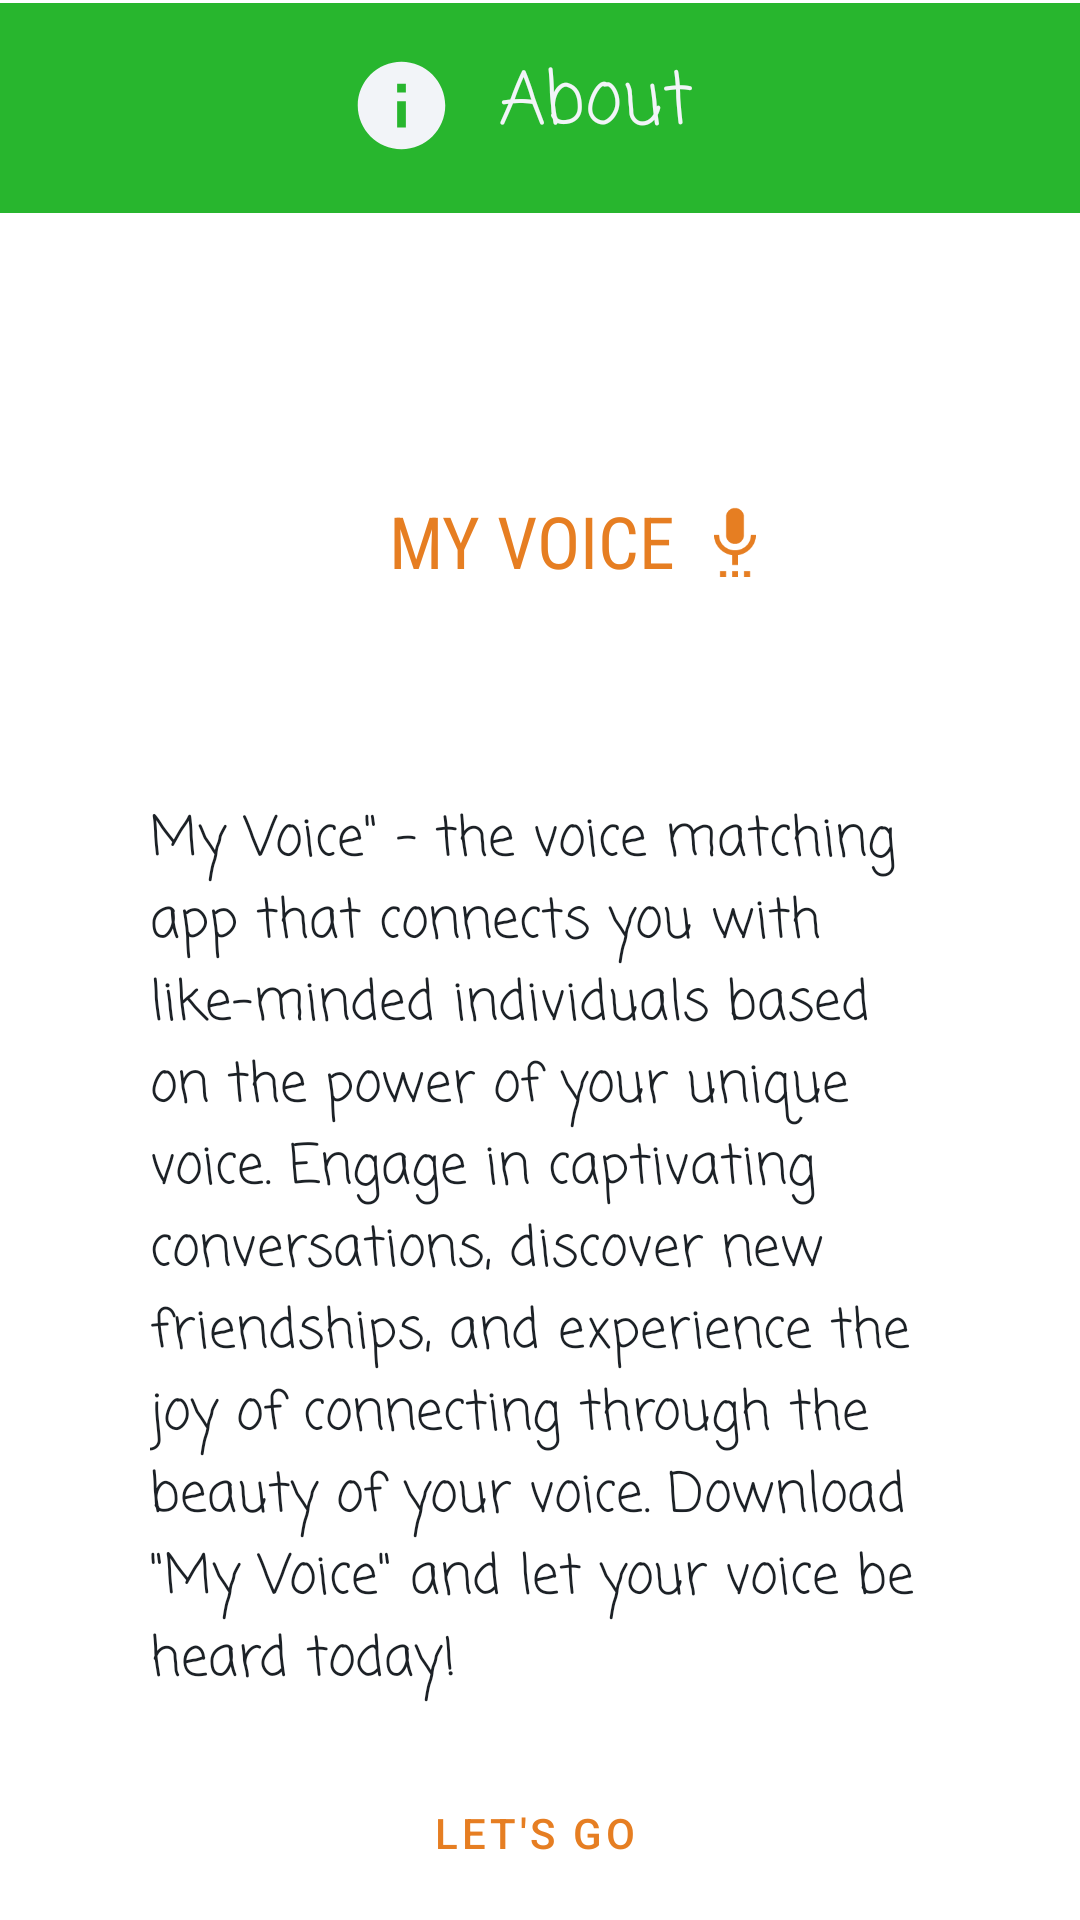

Where to tap for icons on this 1080 x 1920 app screen, as point (x, y):
info: point (401, 105)
settings voice: point (735, 542)
